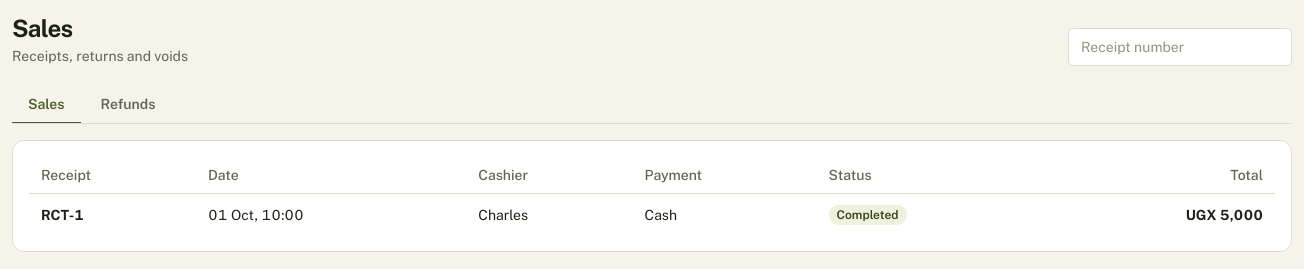
Scenario: refunds list › shows refunds on their own tab with receipt, method, reason and amount
Expected: the text "RCT-1" is shown, [41, 206, 84, 222]
Click the tab "Refunds".
click(128, 105)  # box [85, 86, 172, 124]
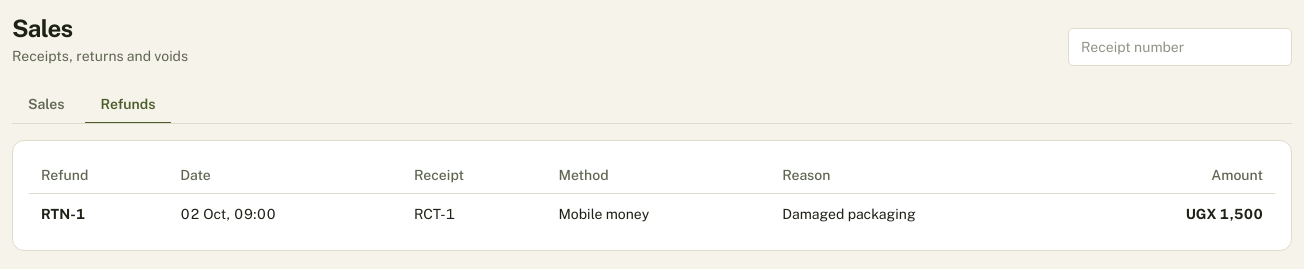
Expected: the text "RTN-1" is shown, [41, 206, 86, 222]
Expected: the text "Damaged packaging" is shown, [770, 194, 1077, 234]
Expected: the text "Mobile money" is shown, [546, 194, 770, 234]
